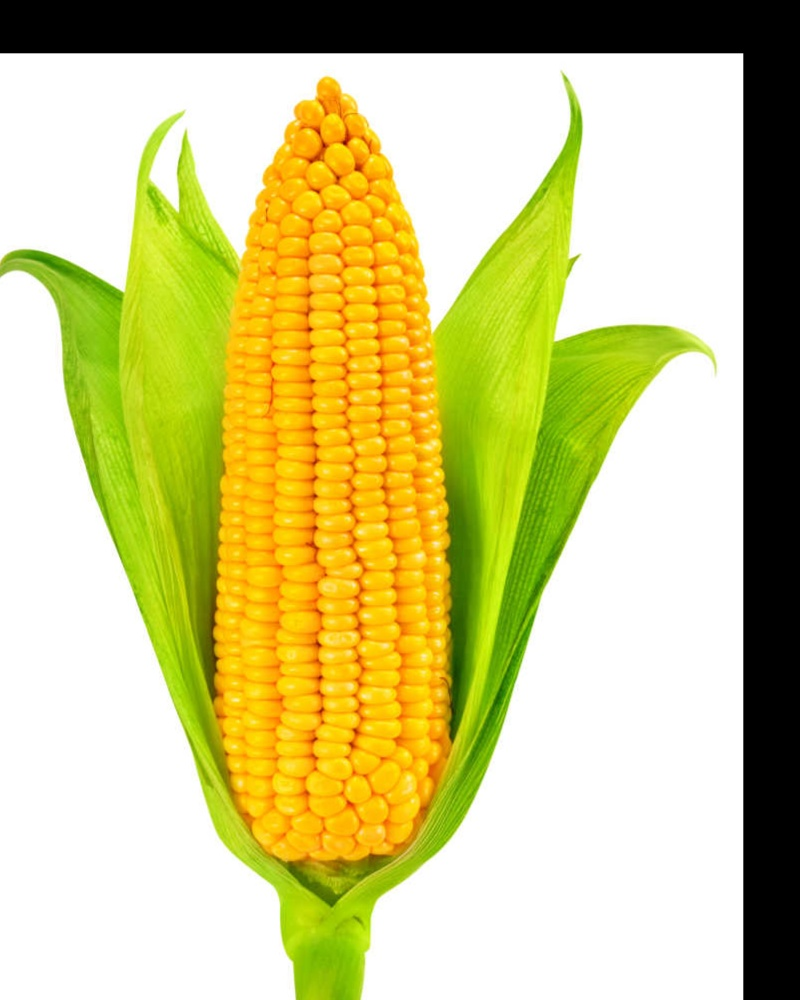corn: (194, 65, 449, 892)
